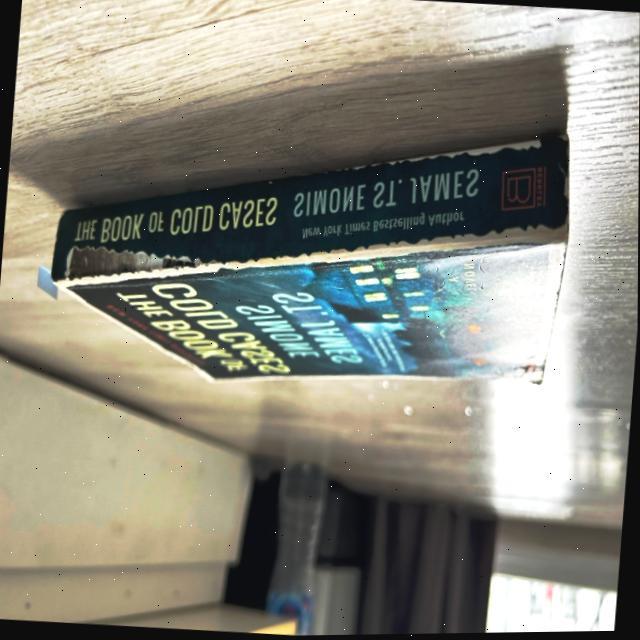Book: (52, 139, 569, 384)
